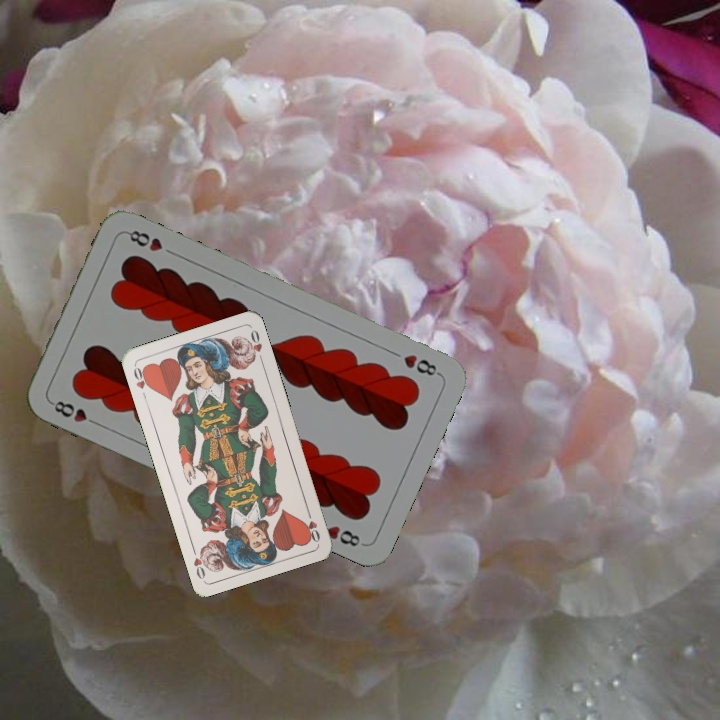H8: (46, 396, 102, 428), (399, 350, 443, 379)
HO: (130, 362, 153, 402), (303, 505, 322, 545)
